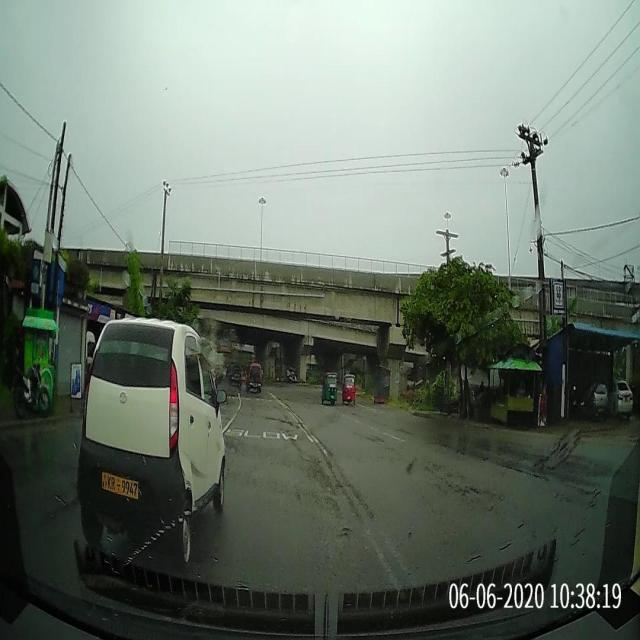SLOW: (224, 424, 300, 442)
